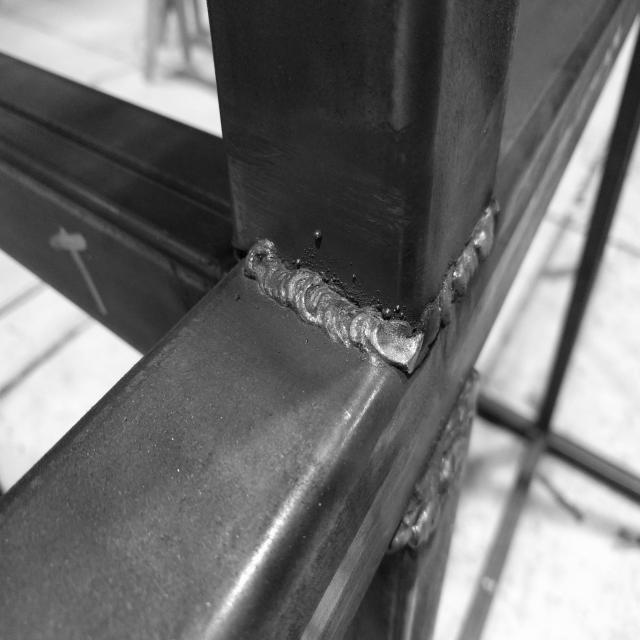Bad Welding: (250, 243, 405, 367), (433, 207, 499, 346)
